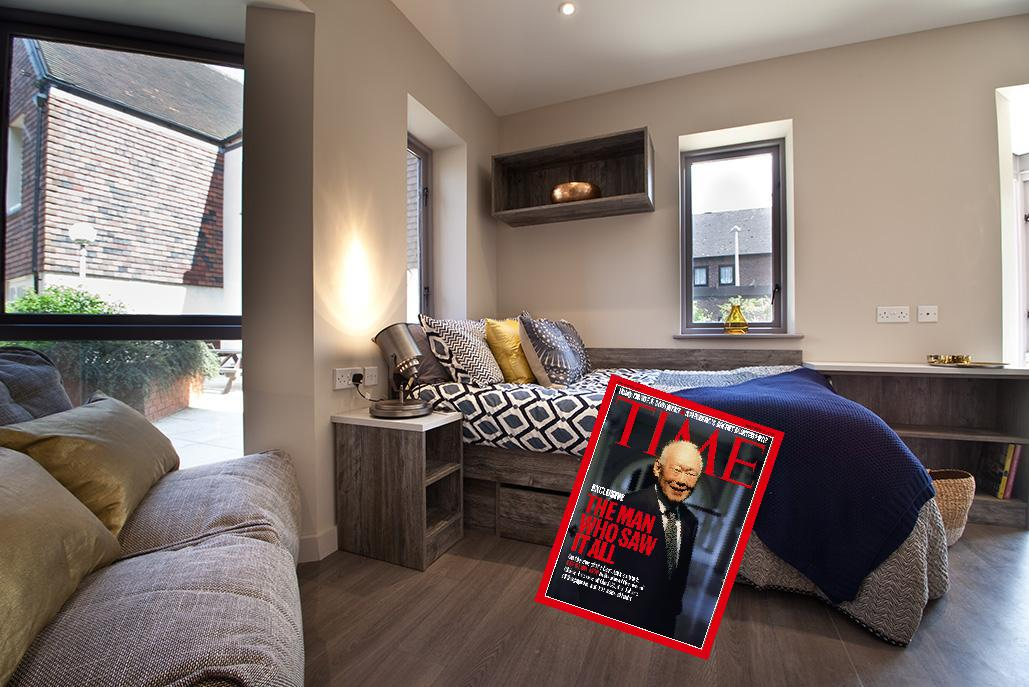times: (530, 371, 786, 663)
